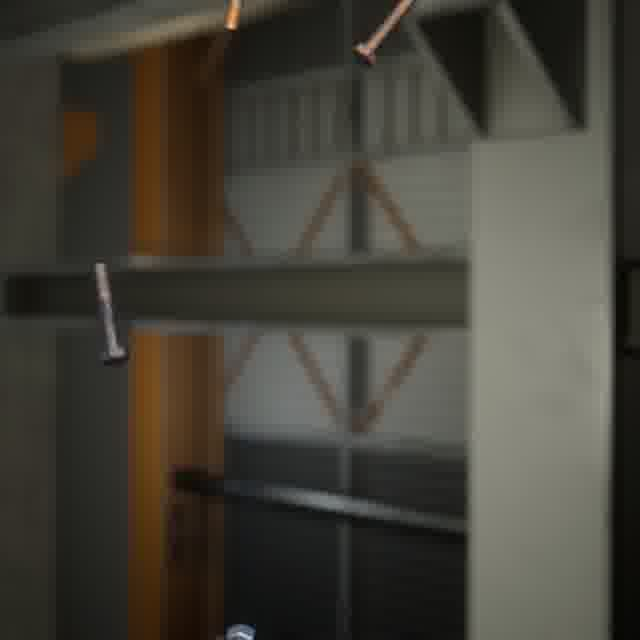bolt: (346, 0, 422, 71), (89, 258, 134, 369), (219, 0, 249, 36)
